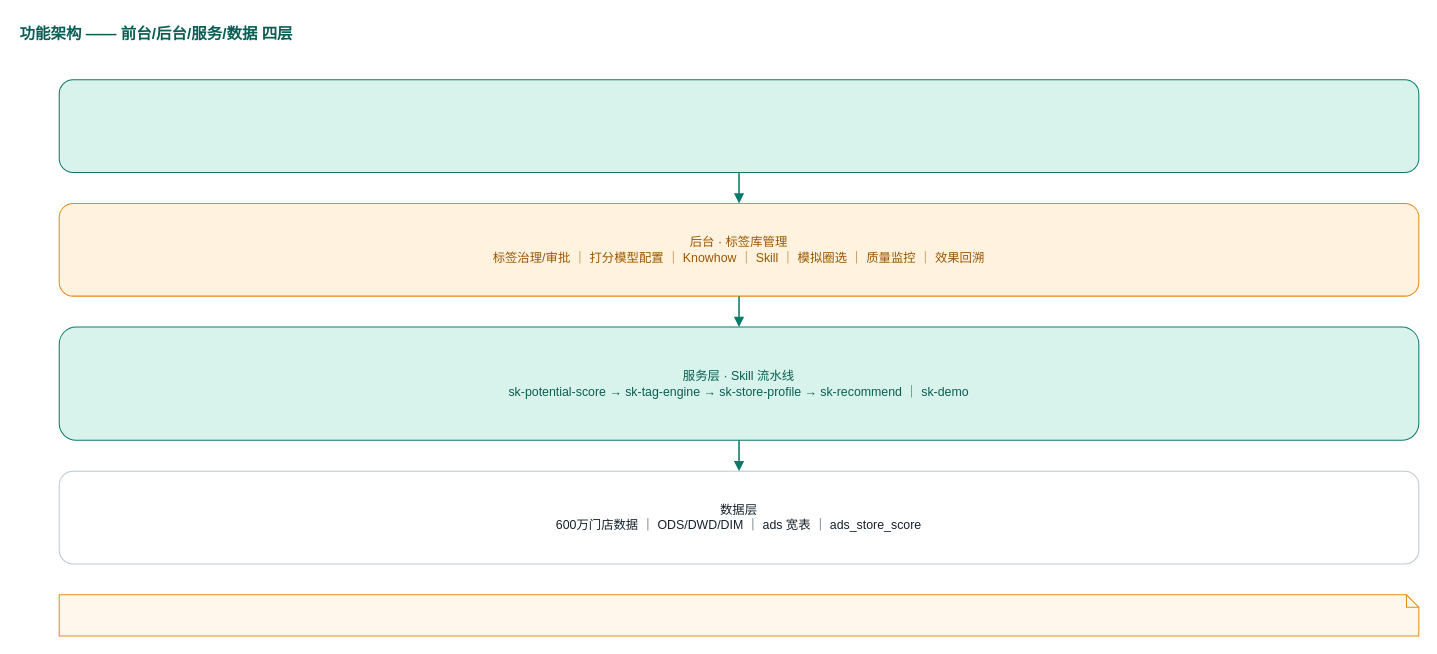
This 1437x654 diagram has some shape labels left out. Here are the shapes that lost their labels. From the top down, the box of each, then its label:
(58, 79, 1419, 173): 前台 · 门店画像 门店池/筛选 ｜ 潜力分可视化 ｜ 雷达图 ｜ Top3驱动 ｜ AI洞察 ｜ 推荐动作 ｜ 标签
(58, 594, 1419, 636): 分层原则：前台面向企业/销售（看结果），后台面向管理员（管配置），服务层可复用可自动化，数据层统一口径。
